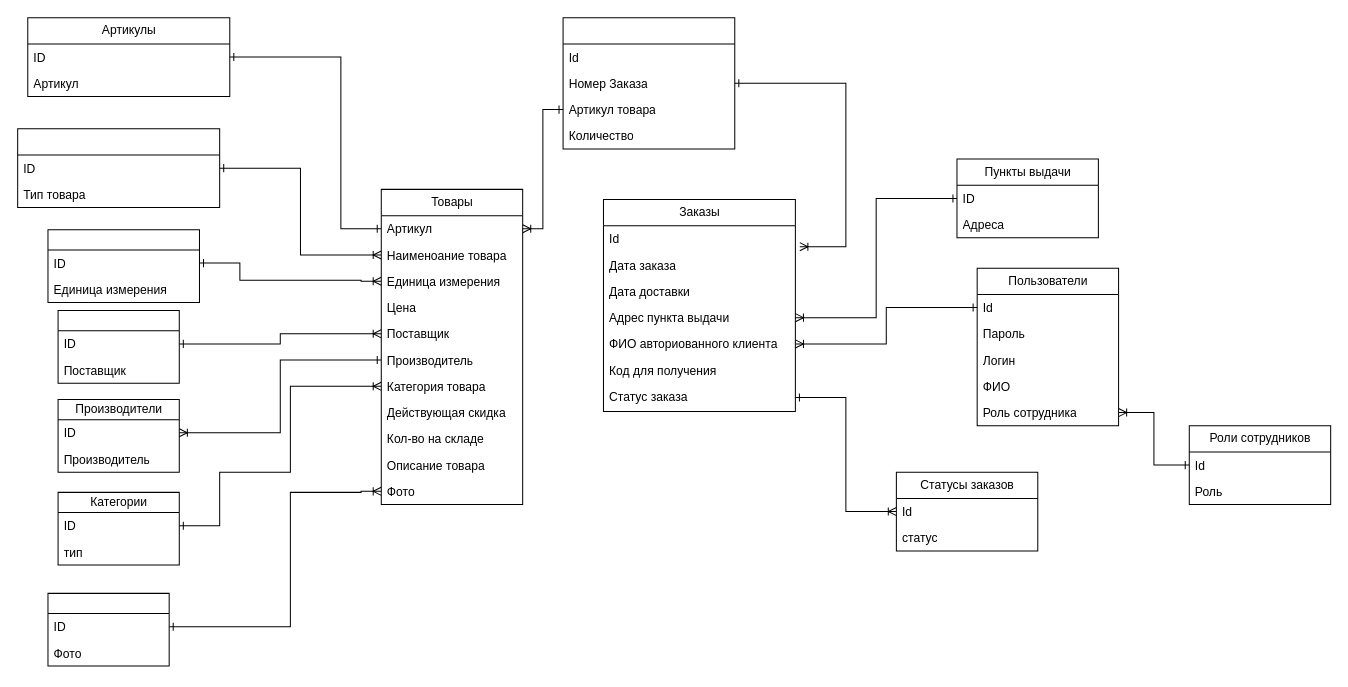
Some shapes in this 1348 by 687 pixel diagram are drawn without their labels. The shapes that lost their labels are listed below. From the top down, each one's box as (x1, y1, x2, y2) in pixels, then its label:
(562, 17, 735, 149): Товары-Заказы
(17, 128, 220, 208): Наименования товаров
(47, 229, 199, 302): Единицы измерения
(57, 310, 179, 383): Поставщики
(47, 592, 169, 666): Фтографии
